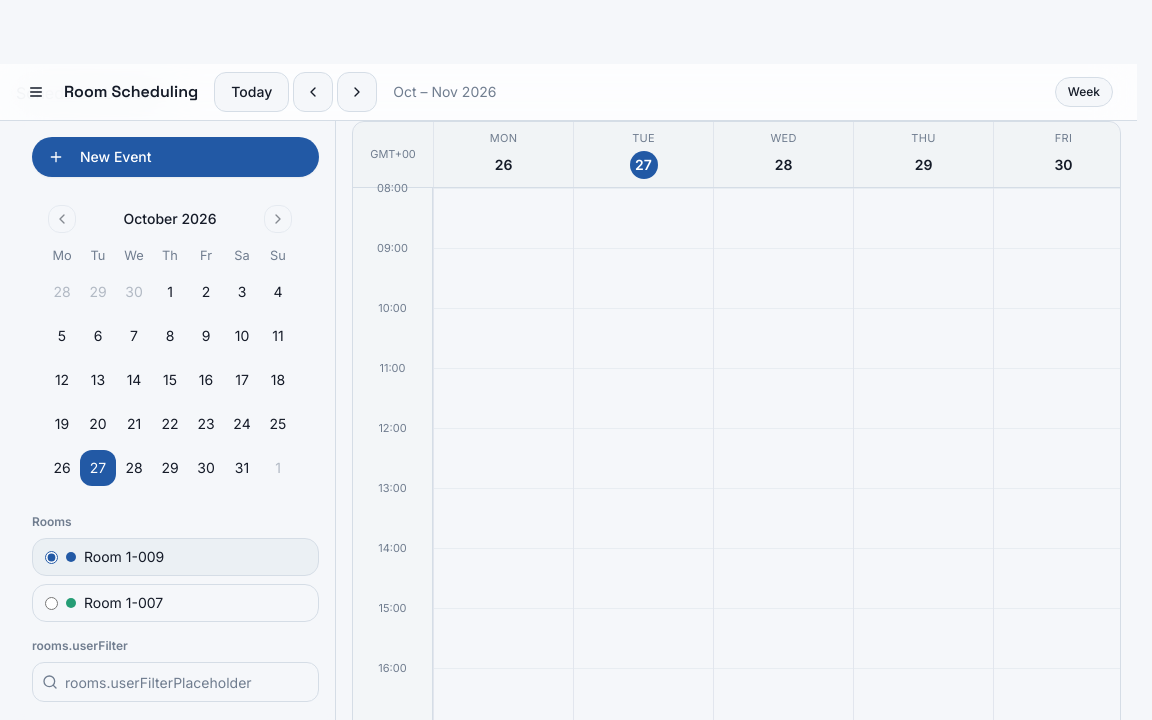
it: RoomSchedulingPage › create button opens dialog with form fields
This screenshot has width=1152, height=720.
Click the button with test id "sidebar-create". click: point(116, 156)
box: [32,137,319,177]
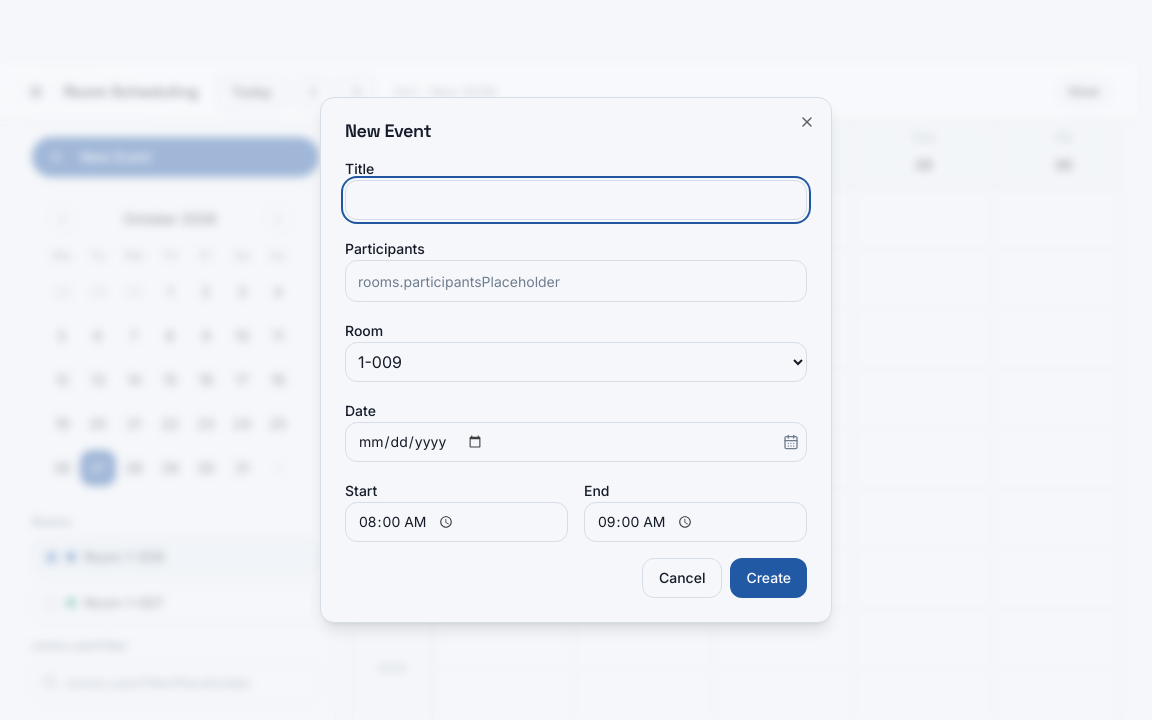
Now the field with test id "event-title-input" is shown, box [345,180,807,220]
Now the element with test id "participants-field" is shown, box [345,260,807,302]
Now the date field with test id "event-date-input" is shown, box [345,422,807,462]
